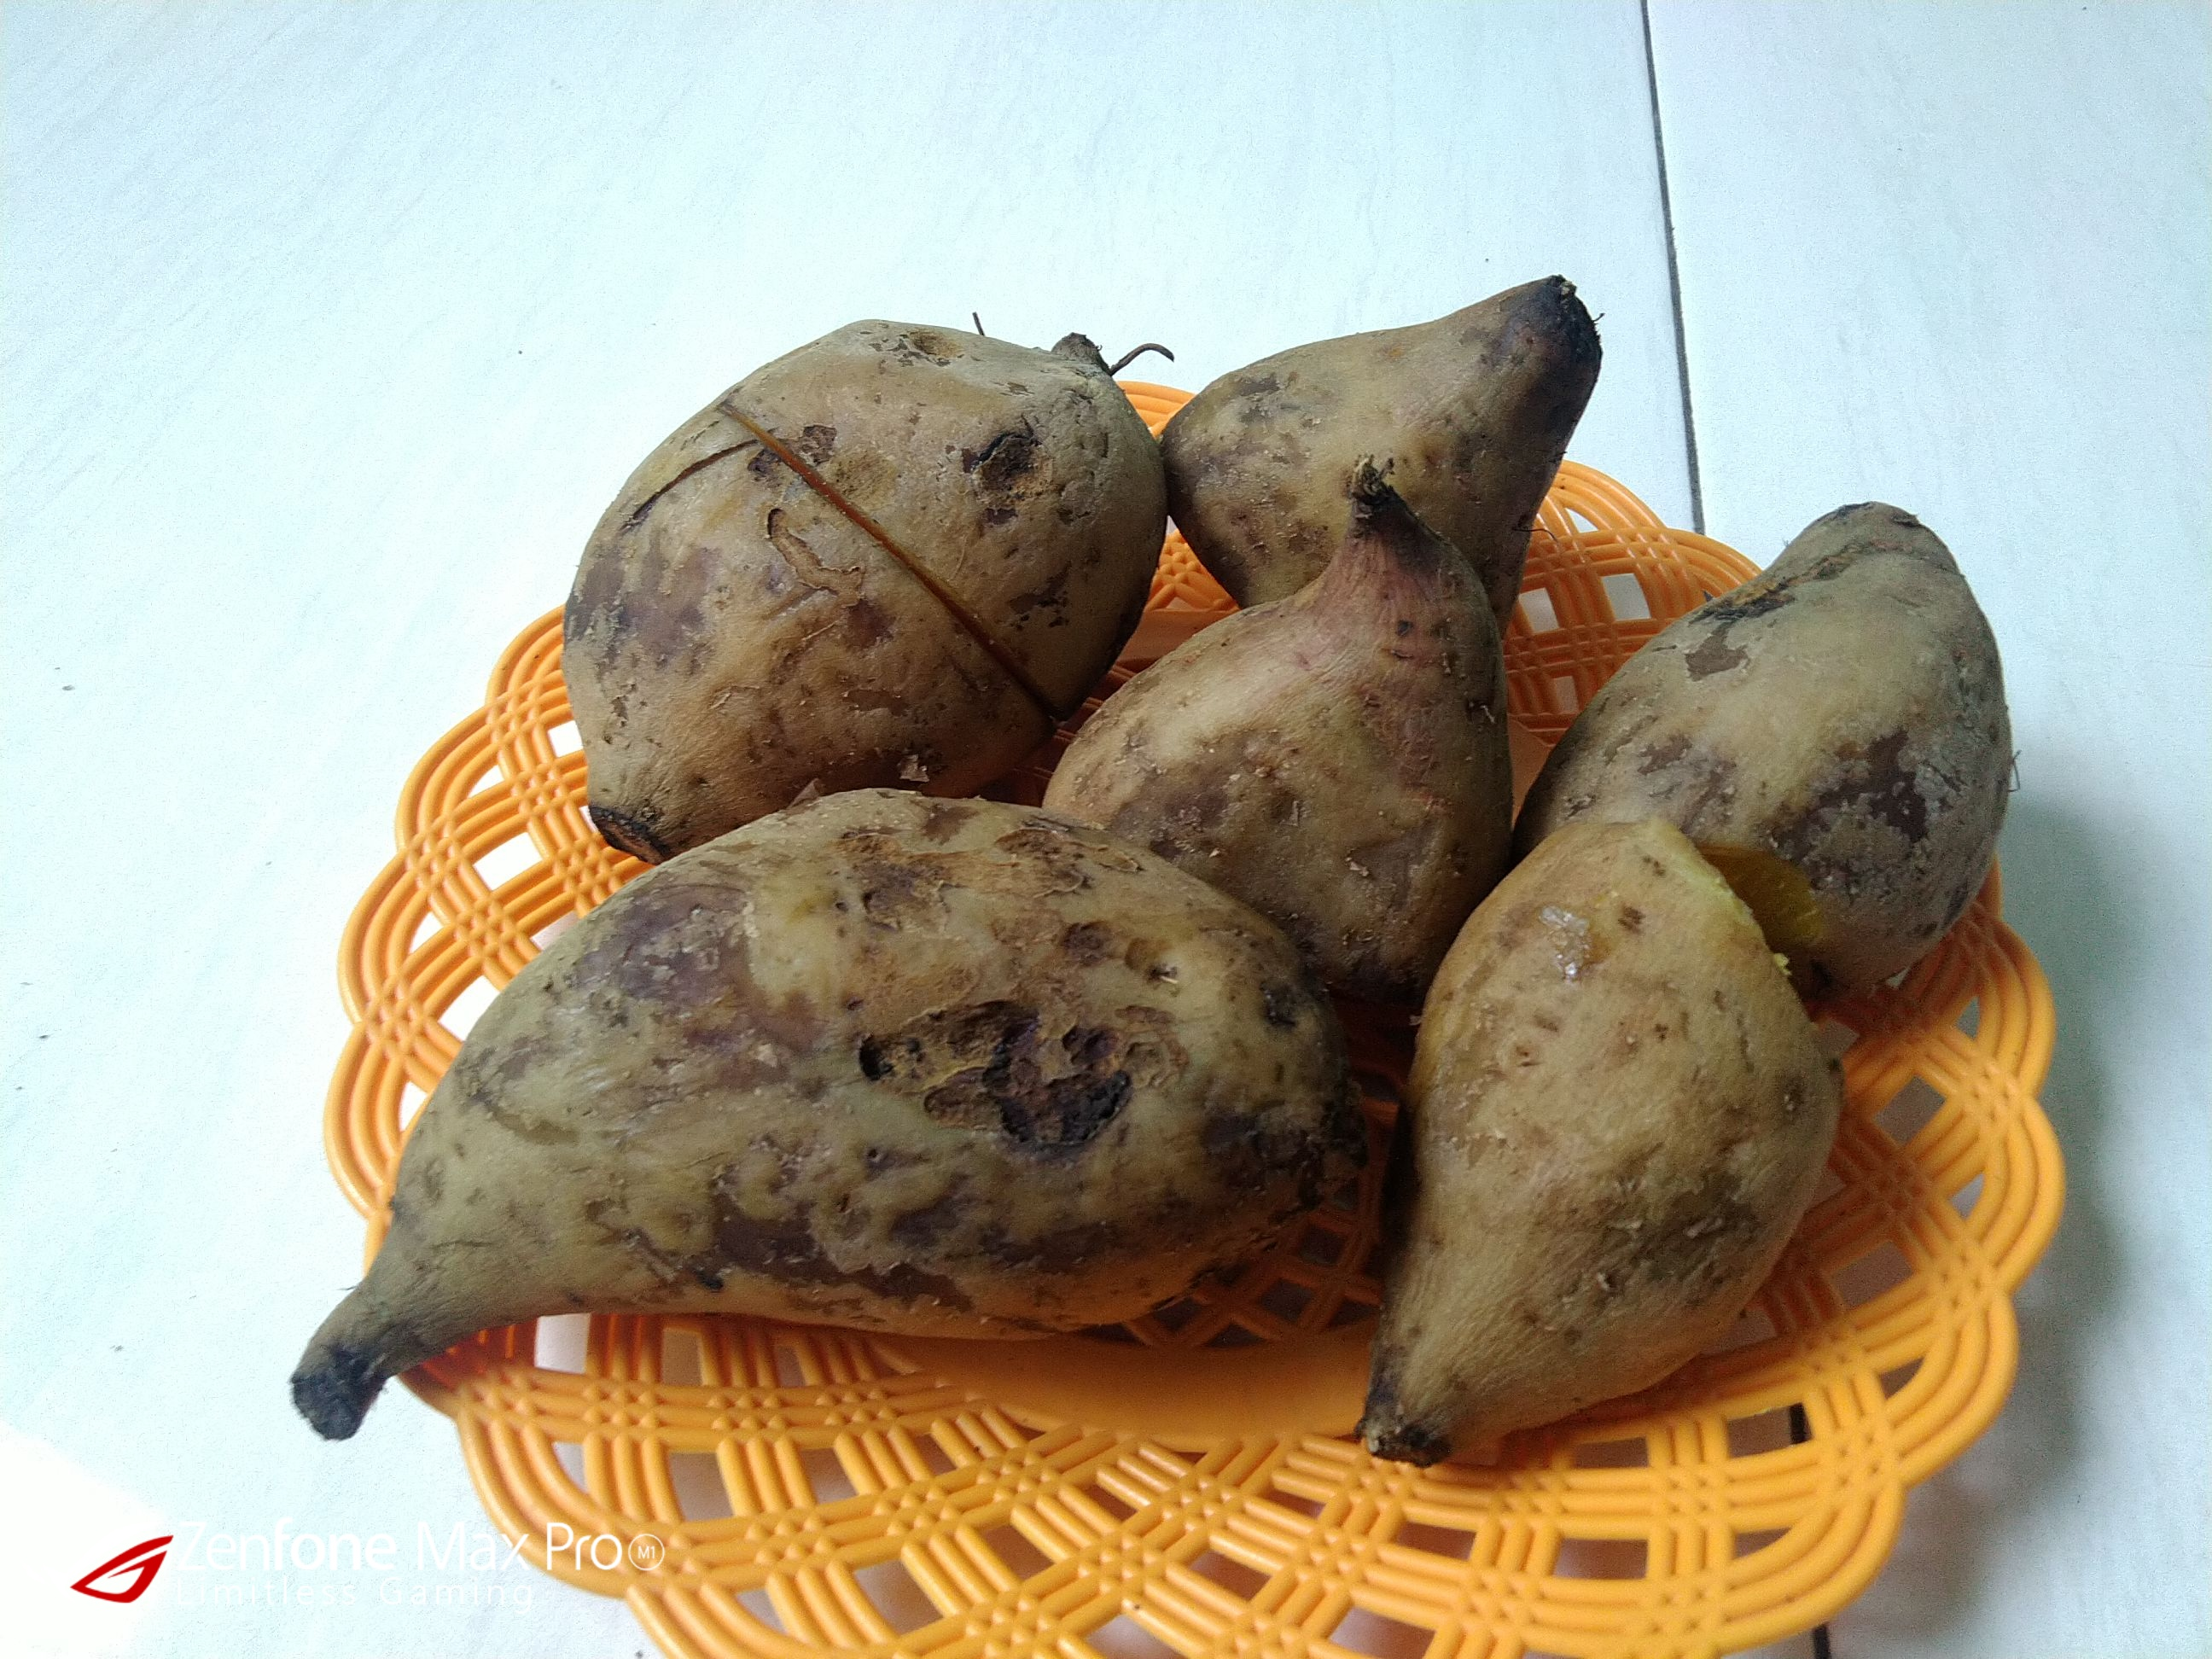ubi kuning: (280, 784, 1360, 1473), (1345, 805, 1853, 1506), (552, 305, 1151, 870), (1498, 477, 2040, 993), (1047, 467, 1538, 981), (1151, 261, 1639, 659)
